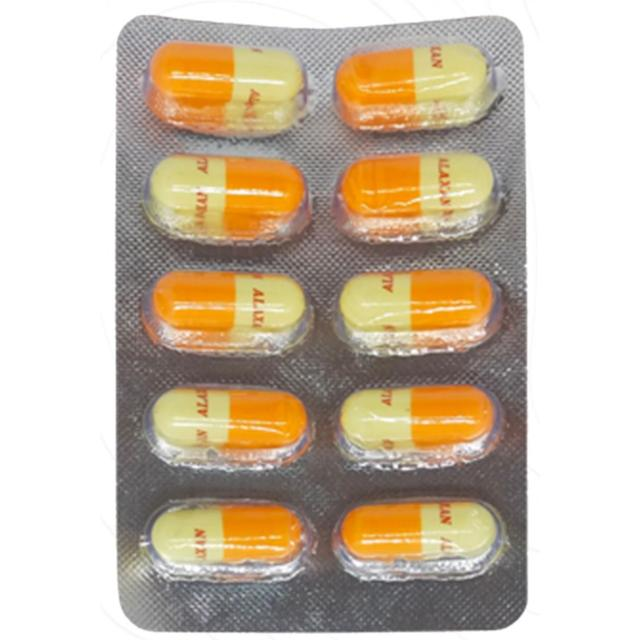blister: (105, 4, 532, 635)
